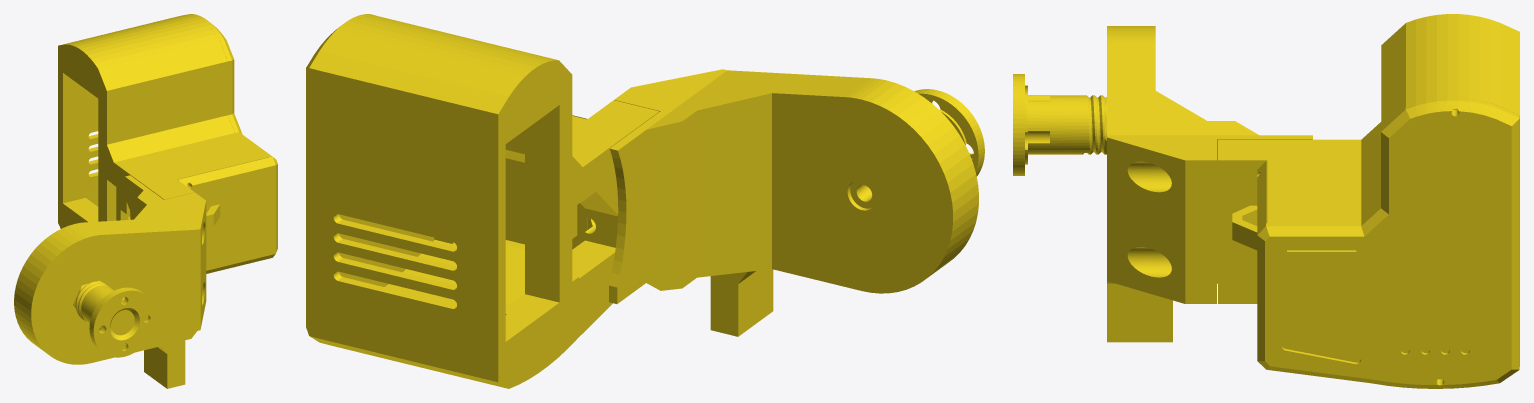
The model's file is motor-rf.obj.
The picture shows the model from 3 angles, left to right: view 1: azimuth 30°, elevation 25°; view 2: azimuth 150°, elevation 25°; view 3: azimuth 270°, elevation 25°; orthographic projection. The views are drawn at different scales.
Parts seen in each view (by area): view 1: \u8f6e\u8fb9\u8235\u673a\u652f\u67b6-\u53f3\u524d, \u5c0f\u817f\u8f6c\u5411\u8f74-\u53f3\u524d, \u8f6e\u8fb9\u8235\u673a\u5916\u58f3-\u53f3\u524d, \u5c0f\u817f\u8f6c\u5411\u9a71\u52a8\u8f74-\u5851\u6599\u8235\u7; view 2: \u8f6e\u8fb9\u8235\u673a\u652f\u67b6-\u53f3\u524d, \u5c0f\u817f\u8f6c\u5411\u8f74-\u53f3\u524d, \u8f6e\u8fb9\u8235\u673a\u5916\u58f3-\u53f3\u524d, \u5c0f\u817f\u8f6c\u5411\u9a71\u52a8\u8f74-\u5851\u6599\u8235\u7; view 3: \u8f6e\u8fb9\u8235\u673a\u5916\u58f3-\u53f3\u524d, \u5c0f\u817f\u8f6c\u5411\u8f74-\u53f3\u524d, \u8f6e\u8fb9\u8235\u673a\u652f\u67b6-\u53f3\u524d, \u5c0f\u817f\u8f6c\u5411\u9a71\u52a8\u8f74-\u5851\u6599\u8235\u7.
Boxes of the visible parts, box(x1,y1,x2,y2) form: \u8f6e\u8fb9\u8235\u673a\u652f\u67b6-\u53f3\u524d: box(58, 15, 267, 228); \u5c0f\u817f\u8f6c\u5411\u8f74-\u53f3\u524d: box(14, 175, 206, 388); \u8f6e\u8fb9\u8235\u673a\u5916\u58f3-\u53f3\u524d: box(178, 14, 277, 273); \u5c0f\u817f\u8f6c\u5411\u9a71\u52a8\u8f74-\u5851\u6599\u8235\u7: box(73, 280, 155, 357); \u8f6e\u8fb9\u8235\u673a\u652f\u67b6-\u53f3\u524d: box(315, 15, 659, 388); \u5c0f\u817f\u8f6c\u5411\u8f74-\u53f3\u524d: box(609, 69, 978, 336); \u8f6e\u8fb9\u8235\u673a\u5916\u58f3-\u53f3\u524d: box(306, 14, 587, 343); \u5c0f\u817f\u8f6c\u5411\u9a71\u52a8\u8f74-\u5851\u6599\u8235\u7: box(914, 89, 984, 176); \u8f6e\u8fb9\u8235\u673a\u5916\u58f3-\u53f3\u524d: box(1232, 97, 1519, 388); \u5c0f\u817f\u8f6c\u5411\u8f74-\u53f3\u524d: box(1107, 26, 1312, 342); \u8f6e\u8fb9\u8235\u673a\u652f\u67b6-\u53f3\u524d: box(1218, 14, 1519, 379); \u5c0f\u817f\u8f6c\u5411\u9a71\u52a8\u8f74-\u5851\u6599\u8235\u7: box(1013, 74, 1106, 175).
Size of the model in its own units: 99.97 by 75.97 by 102.
